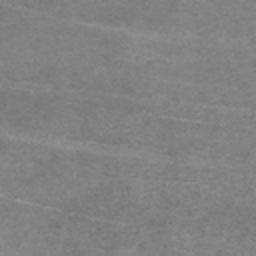Finishing roll printing: (0, 192, 64, 214), (70, 211, 134, 228), (157, 114, 205, 125)
